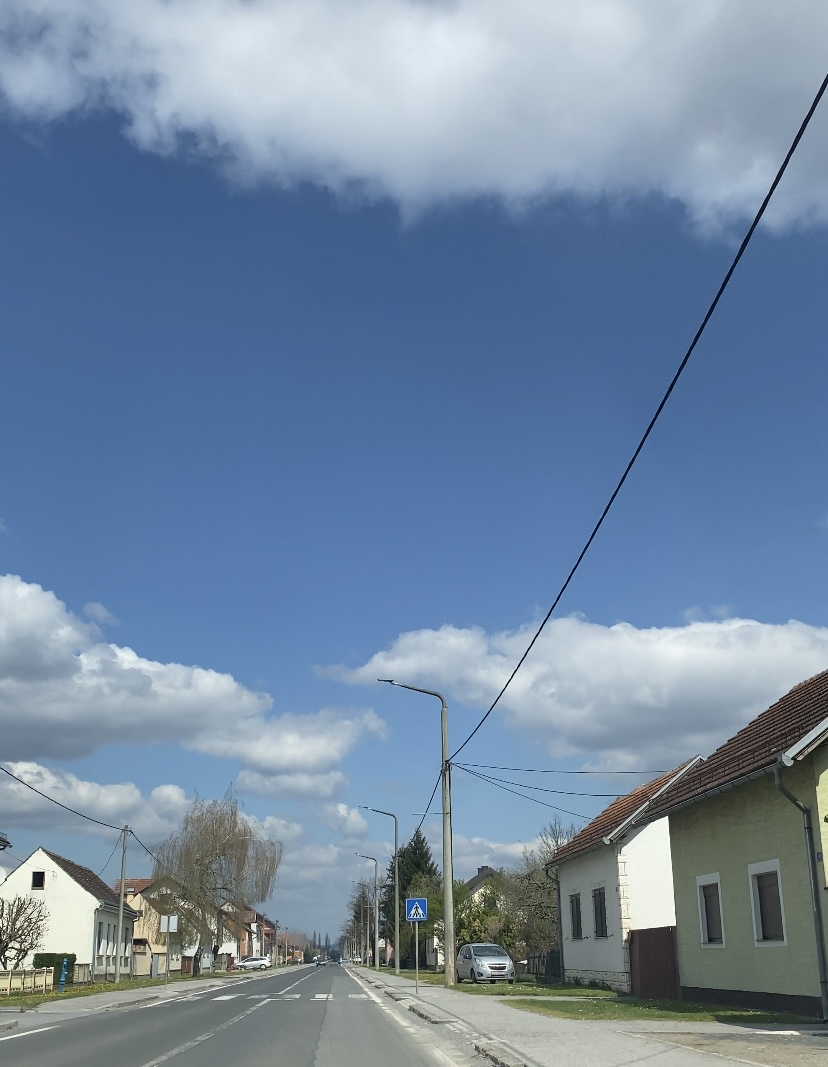Pješački prijelaz: (405, 898, 428, 921)
